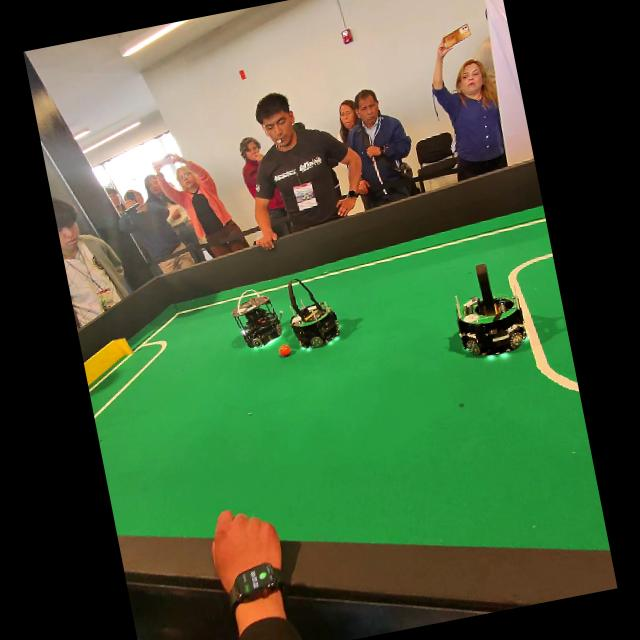ball: (278, 345, 290, 357)
goal: (83, 338, 132, 386)
robot: (456, 264, 526, 355), (287, 279, 339, 348), (231, 289, 281, 348)
